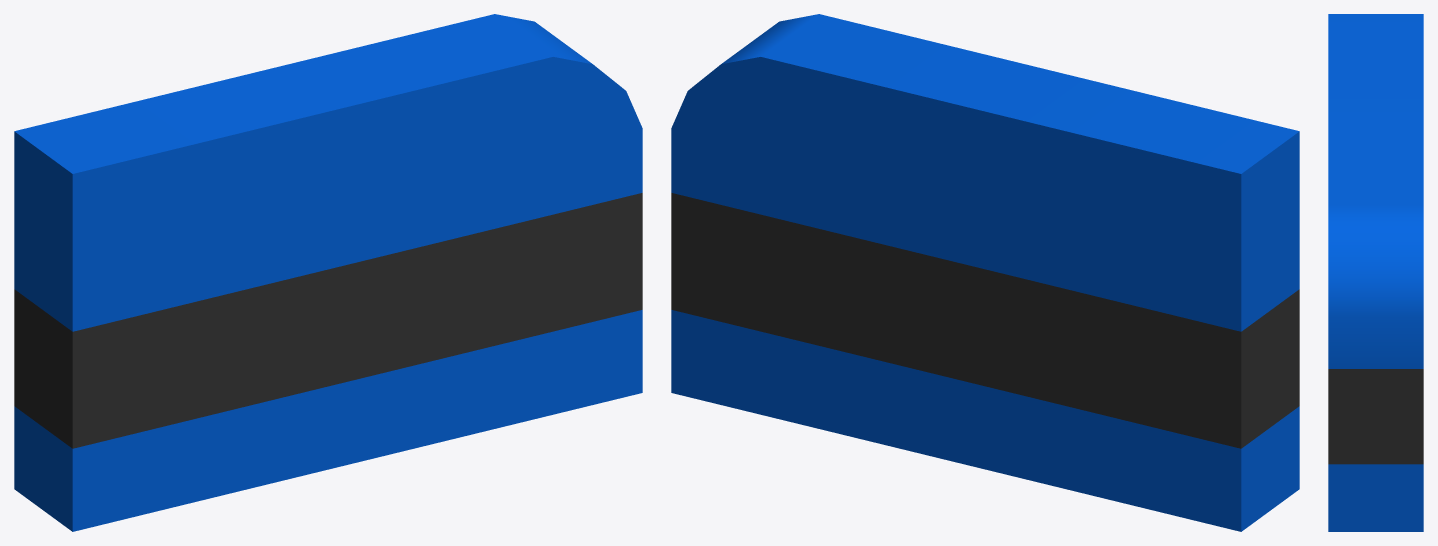
File: RightTop.fbx
3 renders of one model, left to right at view 1: azimuth 30°, elevation 25°; view 2: azimuth 150°, elevation 25°; view 3: azimuth 270°, elevation 25°, orthographic. The views are drawn at different scales.
Parts seen in each view (by area): view 1: RightTop; view 2: RightTop; view 3: RightTop.
Part boxes in pixels (bbox=[...]): RightTop: bbox=[14, 14, 642, 531]; RightTop: bbox=[671, 14, 1299, 531]; RightTop: bbox=[1328, 14, 1423, 531].
Bounding box in the file's own units: 0.3497 × 0.2098 × 0.0621.
